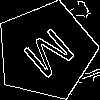M: (20, 26, 84, 88)
